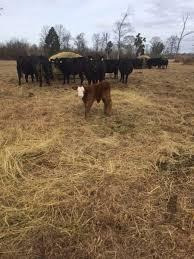cow: (73, 81, 112, 115), (18, 56, 55, 87), (50, 58, 85, 85), (85, 55, 107, 84), (117, 58, 134, 83)
